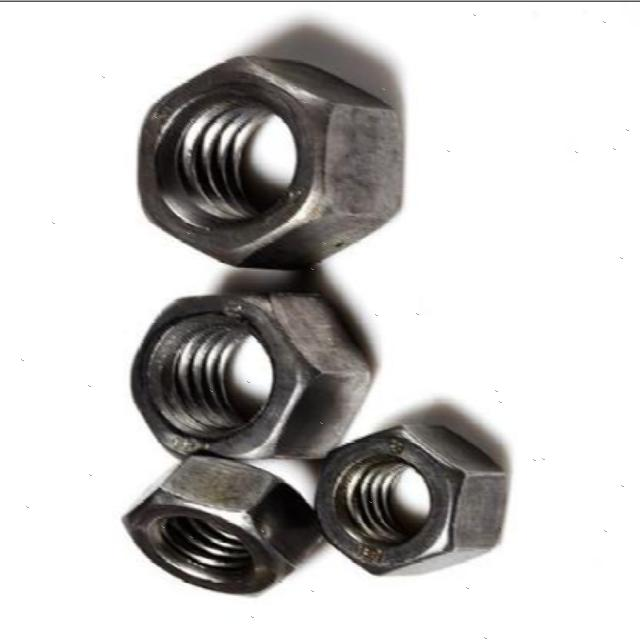Nut: (133, 52, 404, 270), (127, 288, 373, 462), (118, 451, 326, 599), (314, 420, 510, 576)
